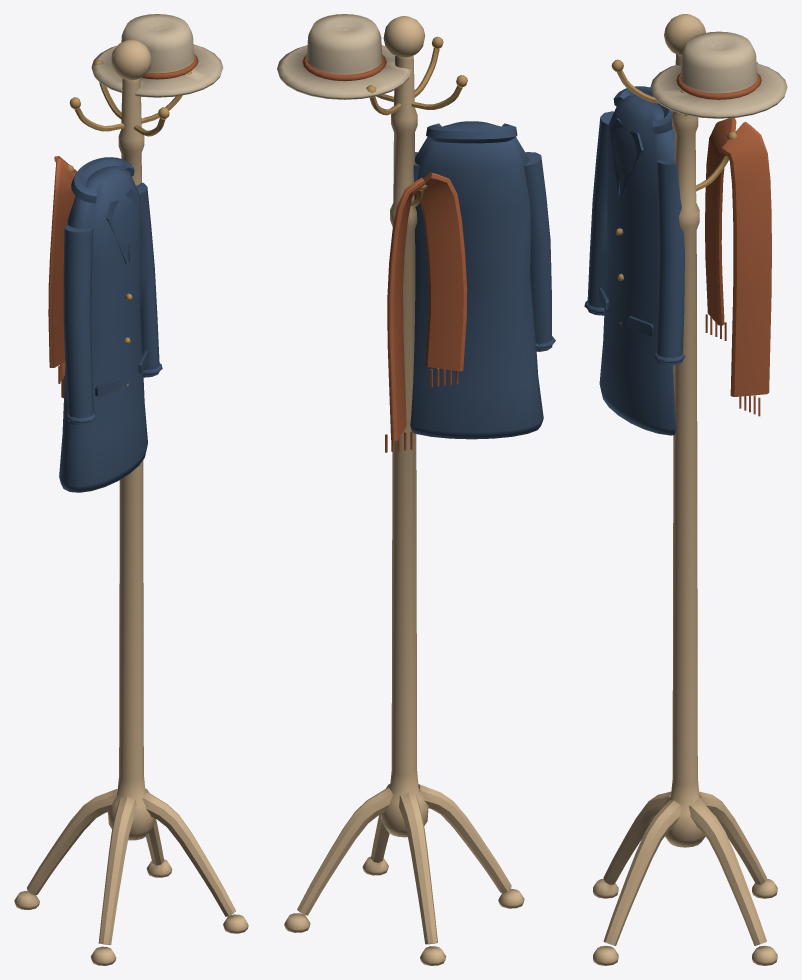
The model's file is coatRack.glb.
3 renders of one model, left to right at view 1: azimuth 30°, elevation 25°; view 2: azimuth 150°, elevation 25°; view 3: azimuth 270°, elevation 25°, orthographic. The views are drawn at different scales.
Visible parts, largest first — view 1: coatRack; view 2: coatRack; view 3: coatRack.
Part boxes in pixels (x1,y1,x2,y2): coatRack: [14, 14, 248, 965]; coatRack: [277, 14, 555, 965]; coatRack: [584, 14, 787, 965].
Size of the model in its own units: 0.4365 by 1.79 by 0.3614.
